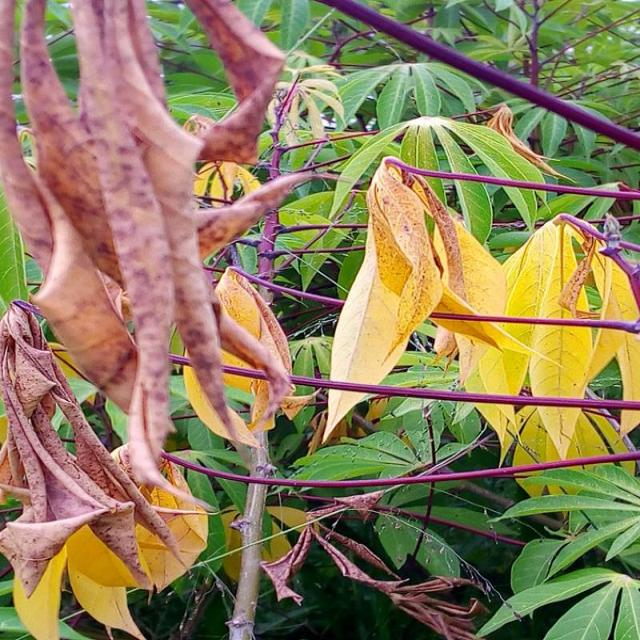cassava leaf: (461, 212, 640, 502), (322, 154, 444, 444), (183, 265, 295, 448)
